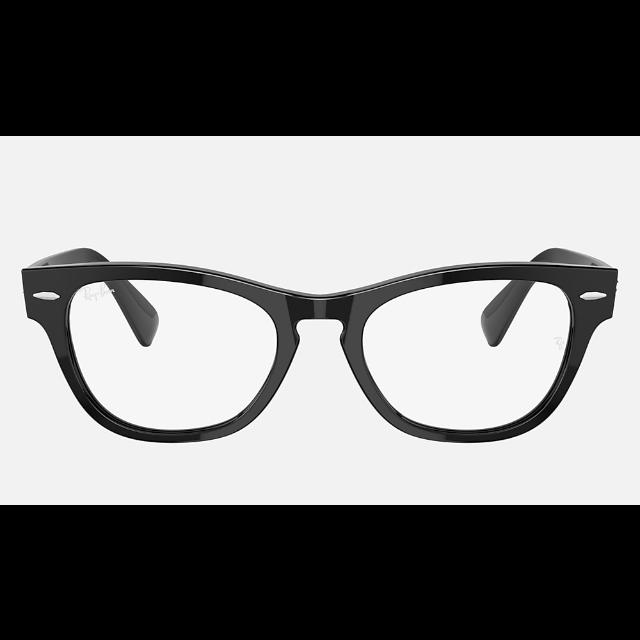glasses: (21, 248, 618, 444)
